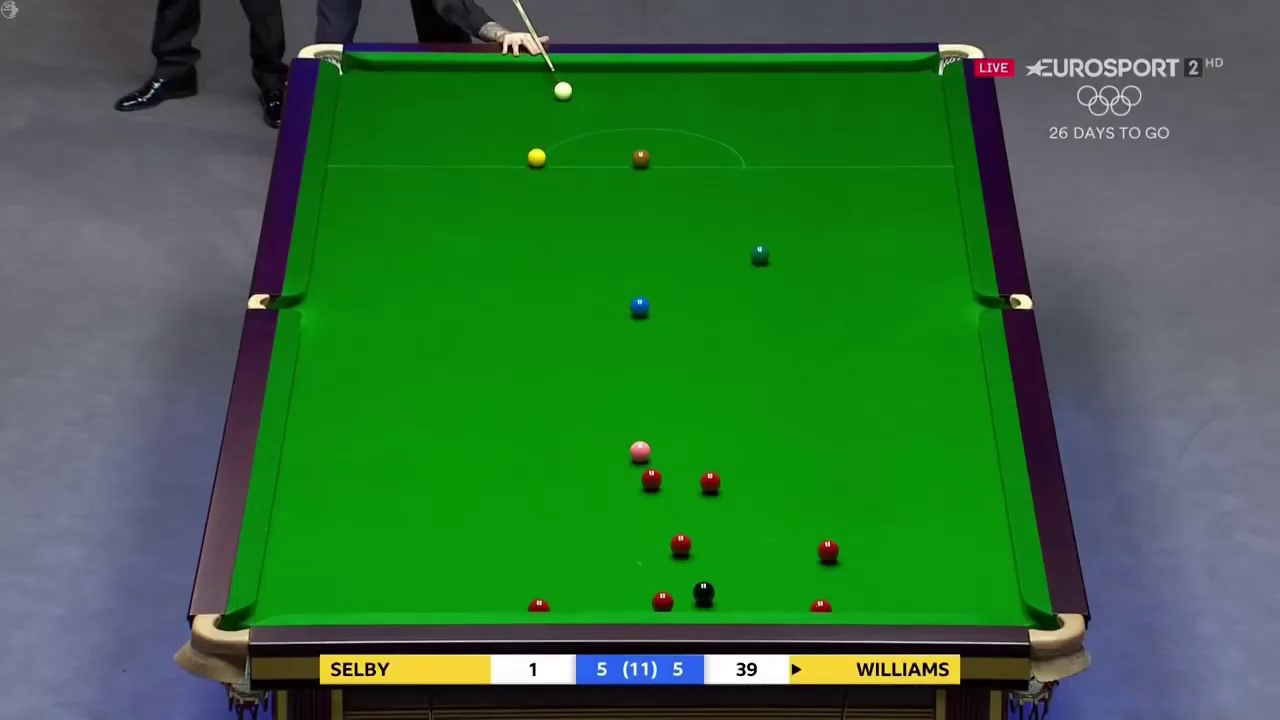ball: (668, 536, 694, 560), (627, 440, 652, 461), (525, 147, 548, 168), (750, 243, 772, 264), (641, 469, 662, 491), (700, 472, 721, 492), (551, 81, 573, 100), (630, 147, 652, 166), (629, 297, 650, 316), (819, 541, 840, 560), (693, 584, 714, 603)
